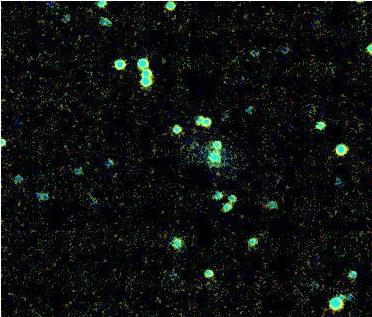star: (0, 86, 20, 116)
